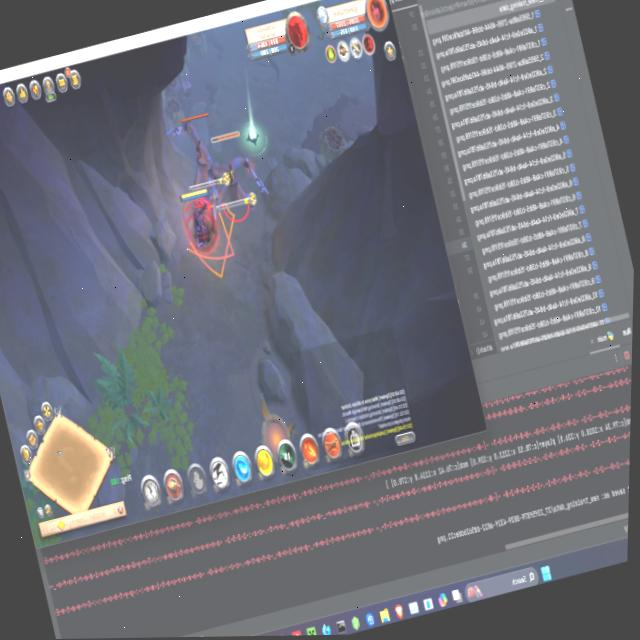ore: (197, 118, 279, 234), (165, 99, 231, 206)
red: (173, 181, 225, 256)
silver: (180, 186, 238, 280)
